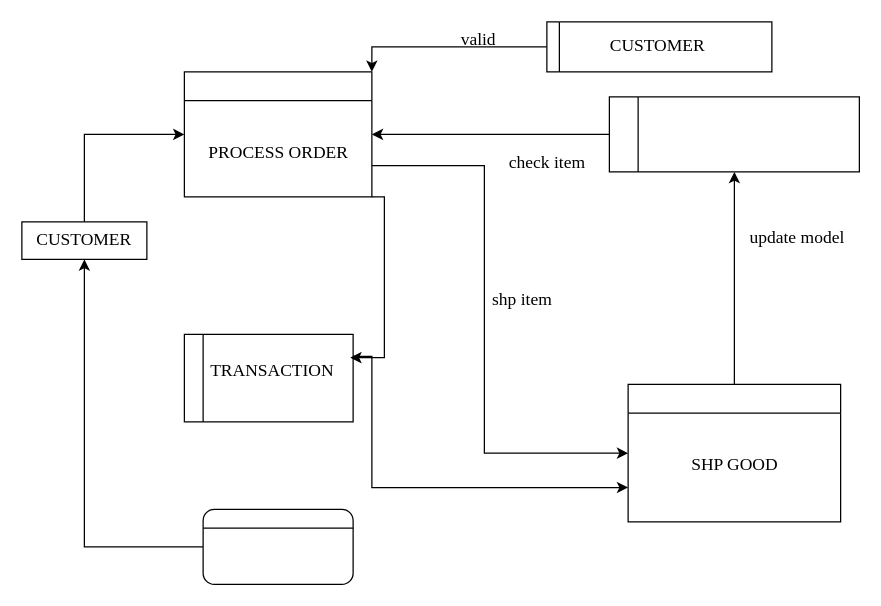
The diagram is 881 pixels wide and 606 high, and some of its shapes have lost their labels. The centre of each missing label's shape, as x and y in pixels:
"INVENTORY" goes at point 733,134.
"ISSUE RECEIPT" goes at point 277,546.
